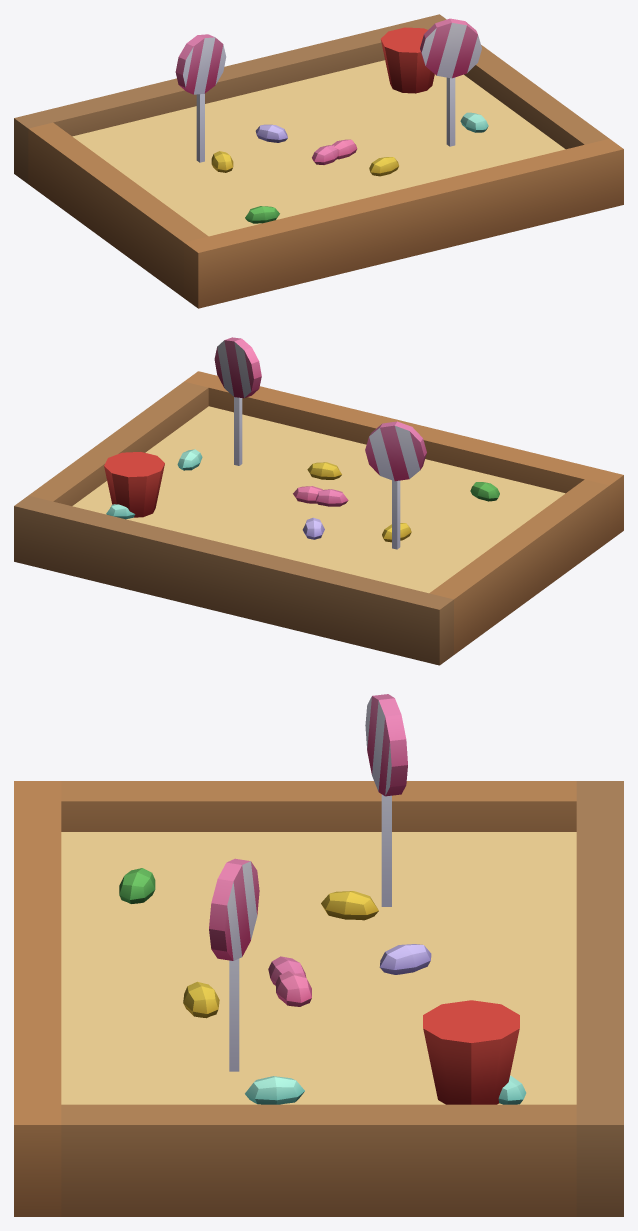
The model's file is PlayGround_Kit_Sandbox_Candy.fbx.
3 views of the same model, one above another, from view 1: azimuth 30°, elevation 25°; view 2: azimuth 150°, elevation 25°; view 3: azimuth 270°, elevation 25° (orthographic). The views are drawn at different scales.
Visible parts, largest first — view 1: PlayGround_Kit_Sandbox_Candy; view 2: PlayGround_Kit_Sandbox_Candy; view 3: PlayGround_Kit_Sandbox_Candy.
Part boxes in pixels (bbox=[...]): PlayGround_Kit_Sandbox_Candy: bbox=[14, 14, 623, 308]; PlayGround_Kit_Sandbox_Candy: bbox=[14, 337, 623, 665]; PlayGround_Kit_Sandbox_Candy: bbox=[14, 694, 623, 1216].
Bounding box in the file's own units: 2.4 × 0.87 × 1.8.
